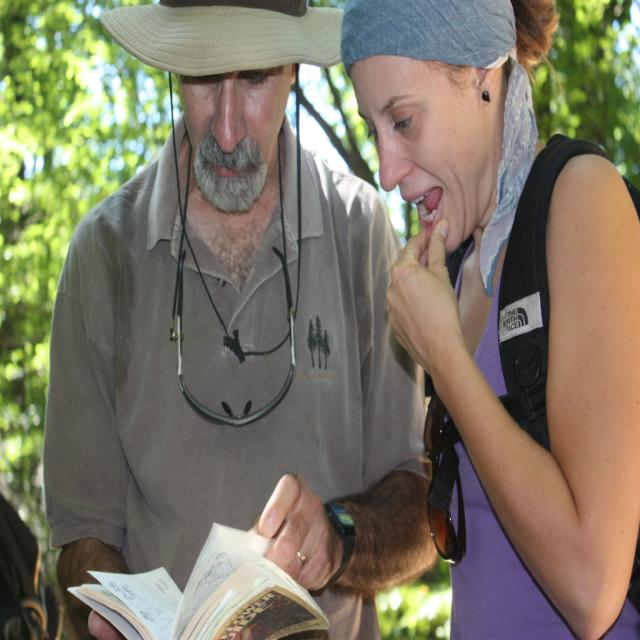no_helmet: (82, 109, 348, 196), (328, 110, 544, 188)
